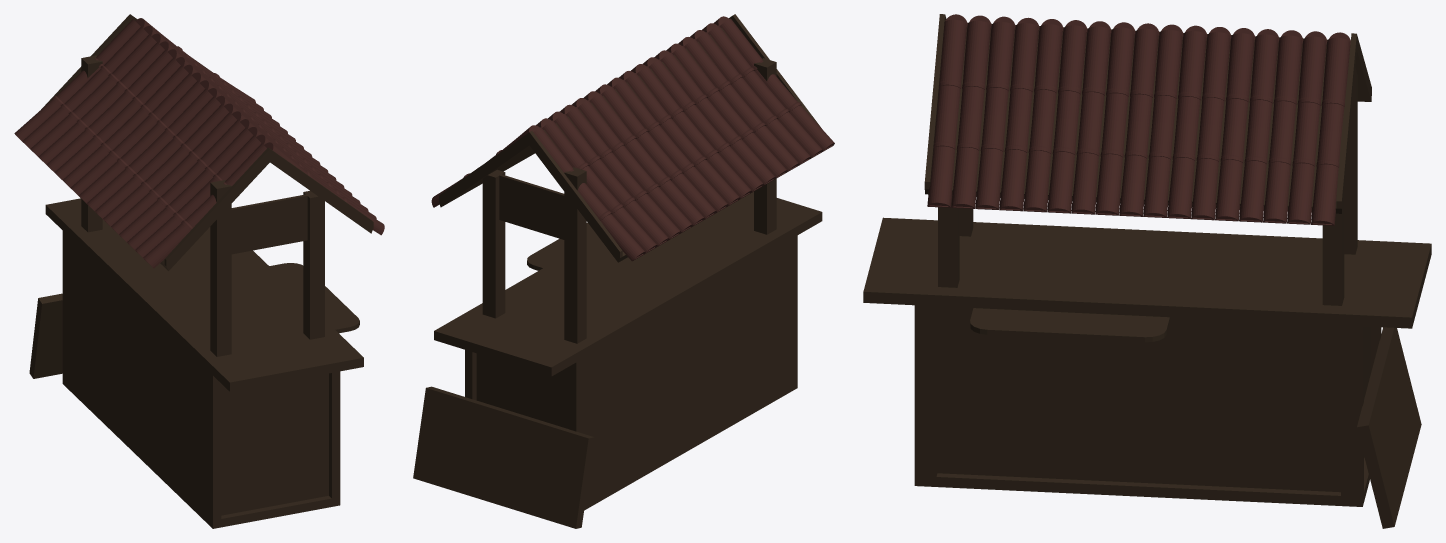
The model's file is Coffee_Stall.fbx.
The picture shows the model from 3 angles, left to right: view 1: azimuth 30°, elevation 25°; view 2: azimuth 150°, elevation 25°; view 3: azimuth 270°, elevation 25°; orthographic projection. The views are drawn at different scales.
Parts seen in each view (by area): view 1: Cube.128; view 2: Cube.128; view 3: Cube.128.
Part boxes in pixels (<box>): Cube.128: <box>14,14,384,528</box>; Cube.128: <box>413,14,834,528</box>; Cube.128: <box>863,14,1431,528</box>.
Size of the model in its own units: 174 by 237 by 279.
